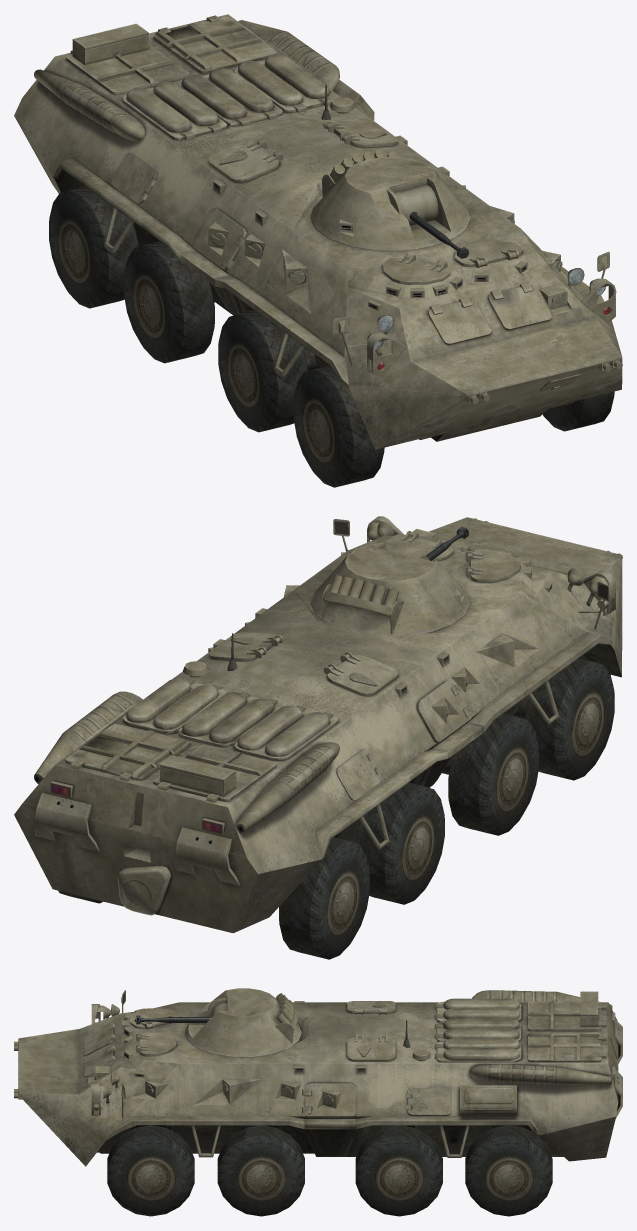
Rendered from walrus.fbx.
3 views of the same model, one above another, from view 1: azimuth 30°, elevation 25°; view 2: azimuth 150°, elevation 25°; view 3: azimuth 270°, elevation 25° (orthographic). The views are drawn at different scales.
Parts seen in each view (by area): view 1: body, wheel_rearright_1, wheel_frontright_2, wheel_rearright_2, wheel_frontright_1, wheel_frontleft_1, lights; view 2: body, wheel_frontright_2, wheel_frontright_1, wheel_rearright_1, wheel_rearright_2; view 3: body, wheel_frontleft_2, wheel_frontleft_1, wheel_rearleft_1, wheel_rearleft_2, cannon.
Part boxes in pixels (<box>): body: <box>14,14,622,449</box>; wheel_rearright_1: <box>124,241,214,363</box>; wheel_frontright_2: <box>218,310,308,432</box>; wheel_rearright_2: <box>49,186,138,308</box>; wheel_frontright_1: <box>293,365,384,487</box>; wheel_frontleft_1: <box>542,391,614,431</box>; lights: <box>367,268,610,369</box>; body: <box>14,516,622,933</box>; wheel_frontright_2: <box>448,713,539,835</box>; wheel_frontright_1: <box>524,658,614,780</box>; wheel_rearright_1: <box>355,782,444,904</box>; wheel_rearright_2: <box>279,837,369,959</box>; body: <box>14,988,622,1166</box>; wheel_frontleft_2: <box>217,1125,304,1216</box>; wheel_frontleft_1: <box>107,1125,194,1216</box>; wheel_rearleft_1: <box>355,1125,442,1216</box>; wheel_rearleft_2: <box>465,1125,552,1216</box>; cannon: <box>134,1015,211,1024</box>.
Bounding box in the file's own units: 161 × 129 × 420.
11 materials, 11 textured.
